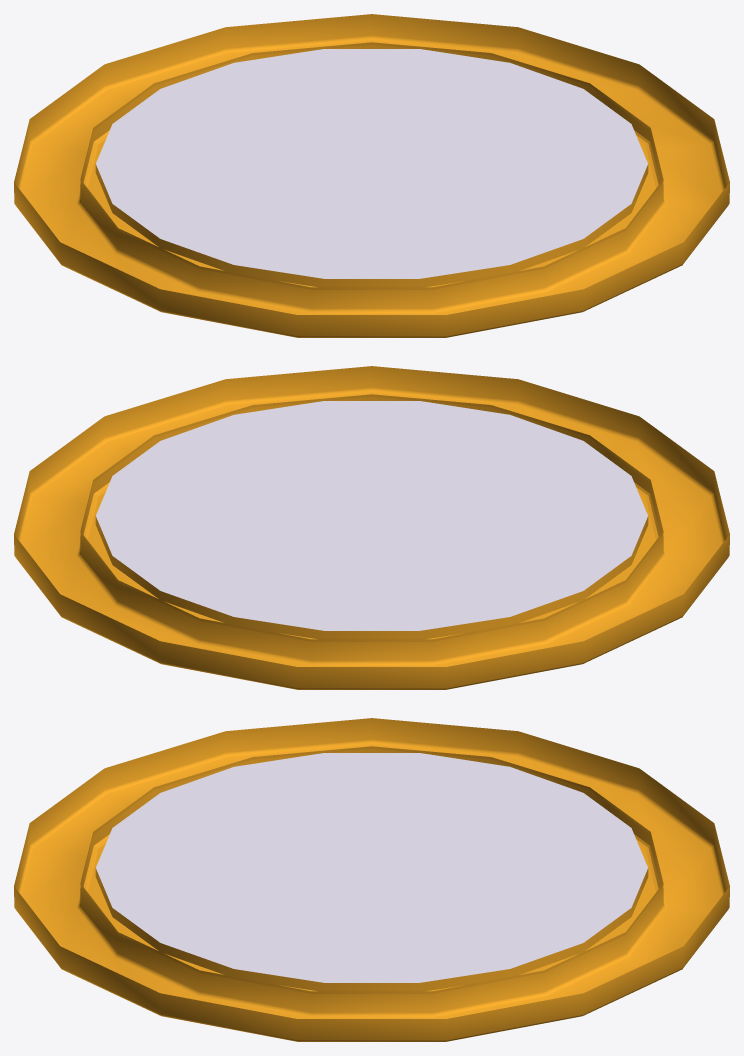
Rendered from deng_yuan.fbx.
The picture shows the model from 3 angles, top to bottom: view 1: azimuth 30°, elevation 25°; view 2: azimuth 150°, elevation 25°; view 3: azimuth 270°, elevation 25°; orthographic projection.
Parts seen in each view (by area): view 1: shedeng018.001; view 2: shedeng018.001; view 3: shedeng018.001.
Boxes of the visible parts, x1,y1,x2,y2 form: shedeng018.001: (14, 14, 729, 337); shedeng018.001: (14, 366, 729, 689); shedeng018.001: (14, 718, 729, 1041).
Bounding box in the file's own units: 89.68 × 3.74 × 90.18.
